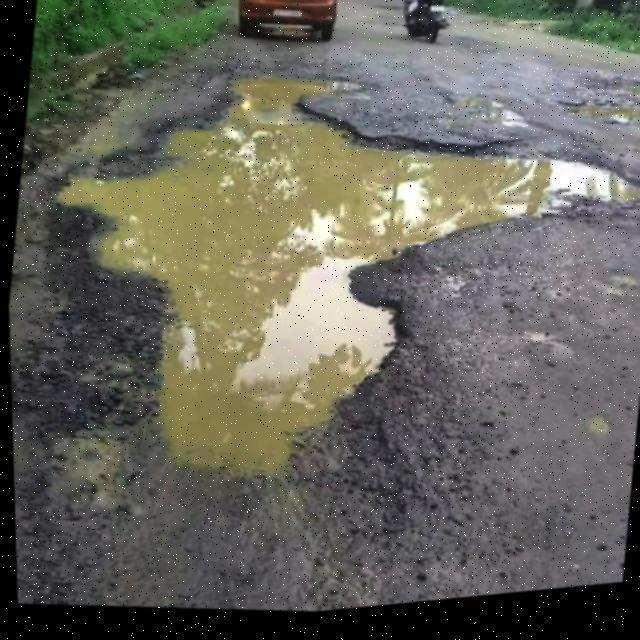pothole: (9, 17, 640, 550)
